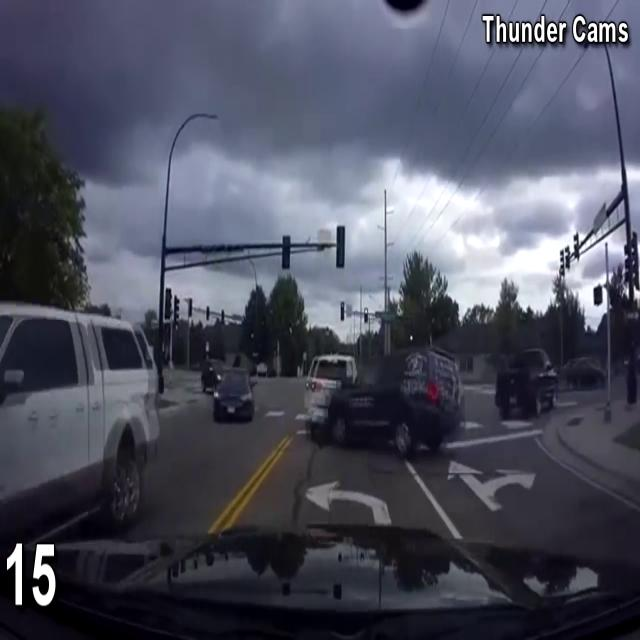accident: (293, 324, 448, 468)
